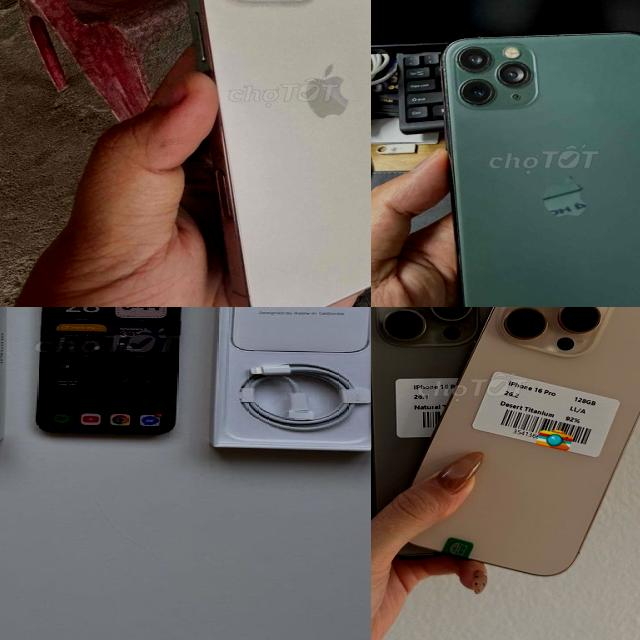gen_11: (435, 26, 640, 307)
gen_14: (36, 307, 186, 450)
gen_16: (399, 307, 640, 588), (187, 0, 371, 307)
